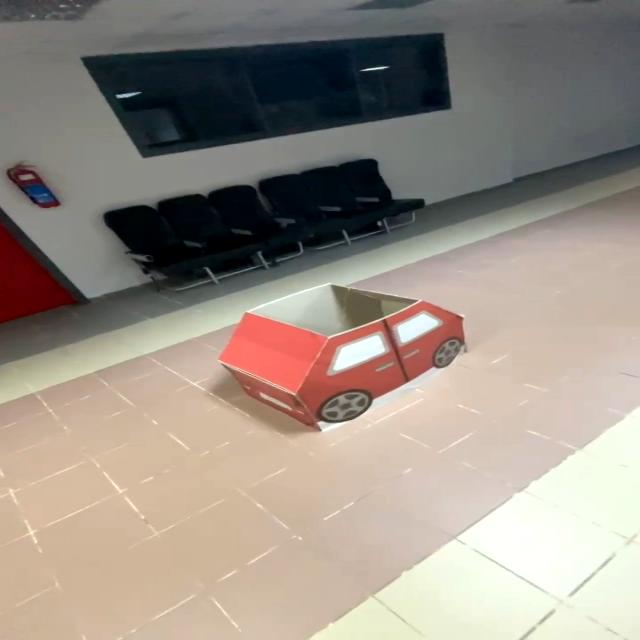red_car: (203, 271, 526, 451)
